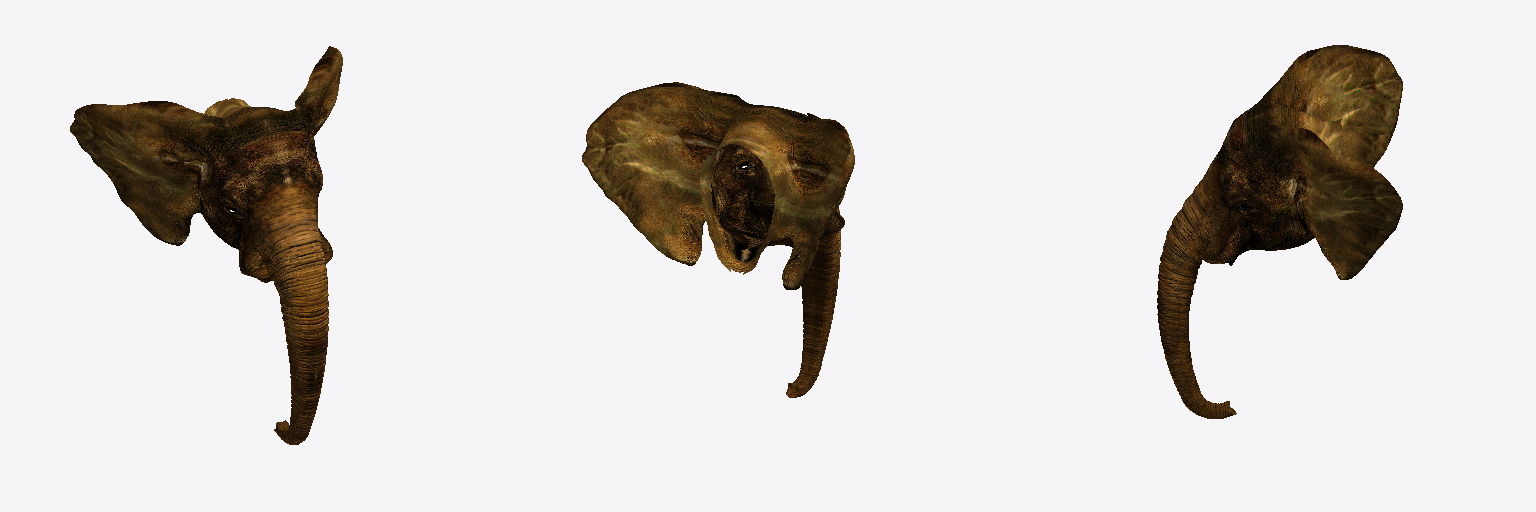
3 views of the same model, side by side, from view 1: azimuth 30°, elevation 25°; view 2: azimuth 150°, elevation 25°; view 3: azimuth 270°, elevation 25° (orthographic).
Parts seen in each view (by area): view 1: ele_head; view 2: ele_head; view 3: ele_head.
Part boxes in pixels (left/top/right/bottom): ele_head: left=70, top=46, right=342, bottom=444; ele_head: left=582, top=82, right=854, bottom=397; ele_head: left=1157, top=45, right=1402, bottom=418.
Bounding box in the file's own units: 5461 × 6745 × 4624.
Materials: 1 (1 with a texture image).